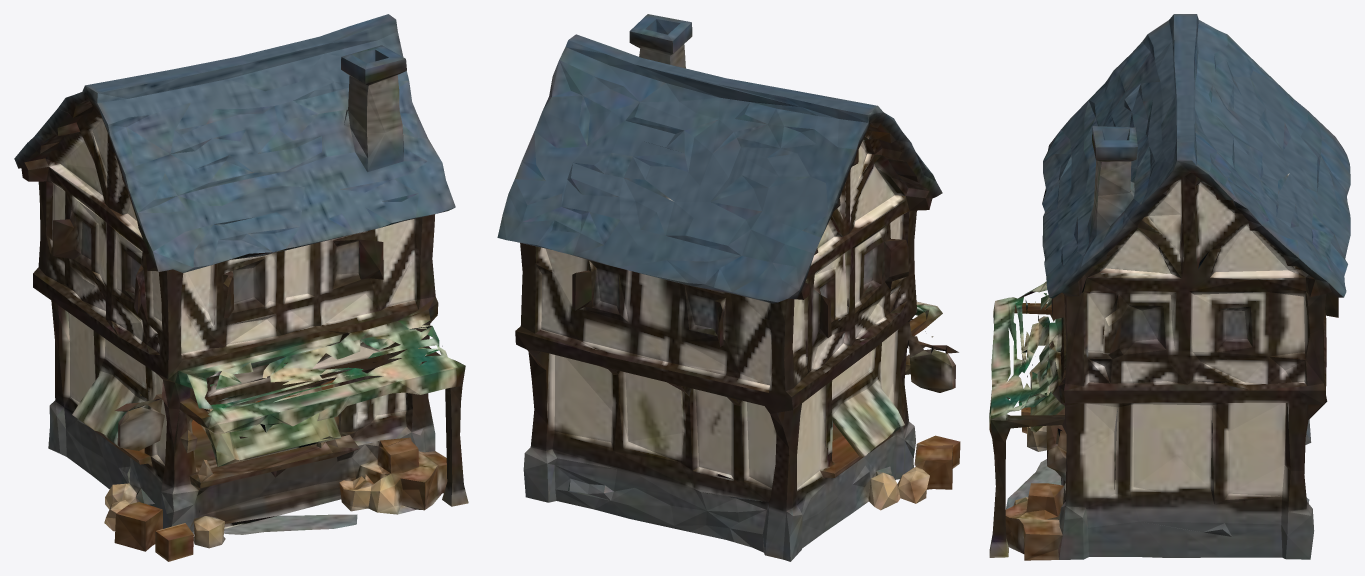
Rendered from house_trader_lod2.glb.
The picture shows the model from 3 angles, left to right: view 1: azimuth 30°, elevation 25°; view 2: azimuth 150°, elevation 25°; view 3: azimuth 270°, elevation 25°; orthographic projection.
Visible parts, largest first — view 1: lod; view 2: lod; view 3: lod.
Boxes of the visible parts, bbox=[...] form: lod: bbox=[14, 14, 468, 561]; lod: bbox=[497, 14, 960, 561]; lod: bbox=[989, 14, 1350, 560].
Size of the model in its own units: 1.61 by 1.9 by 1.51.
Materials: 1 (1 with a texture image).
